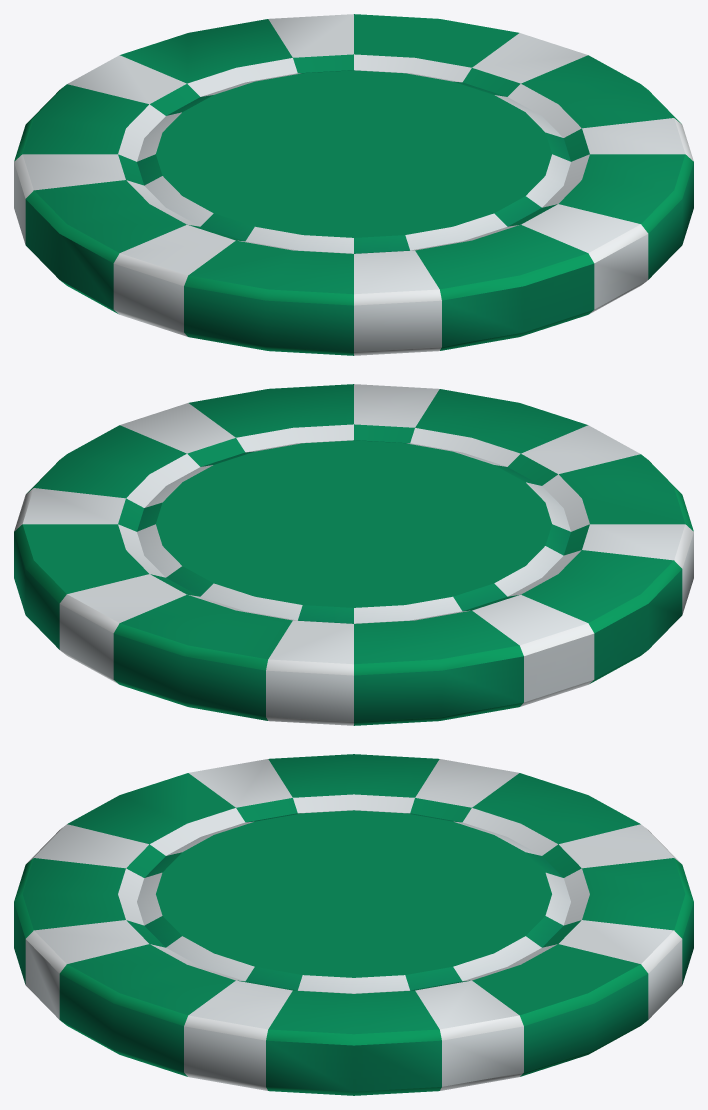
File: chip_B_green.obj
3 renders of one model, top to bottom at view 1: azimuth 30°, elevation 25°; view 2: azimuth 150°, elevation 25°; view 3: azimuth 270°, elevation 25°, orthographic.
Parts seen in each view (by area): view 1: chip_B_green; view 2: chip_B_green; view 3: chip_B_green.
Part boxes in pixels (left/top/right/bottom): chip_B_green: left=14, top=14, right=693, bottom=355; chip_B_green: left=14, top=384, right=693, bottom=725; chip_B_green: left=14, top=754, right=693, bottom=1095.
Size of the model in its own units: 3 by 0.3 by 3.
Materials: 1 (1 with a texture image).
